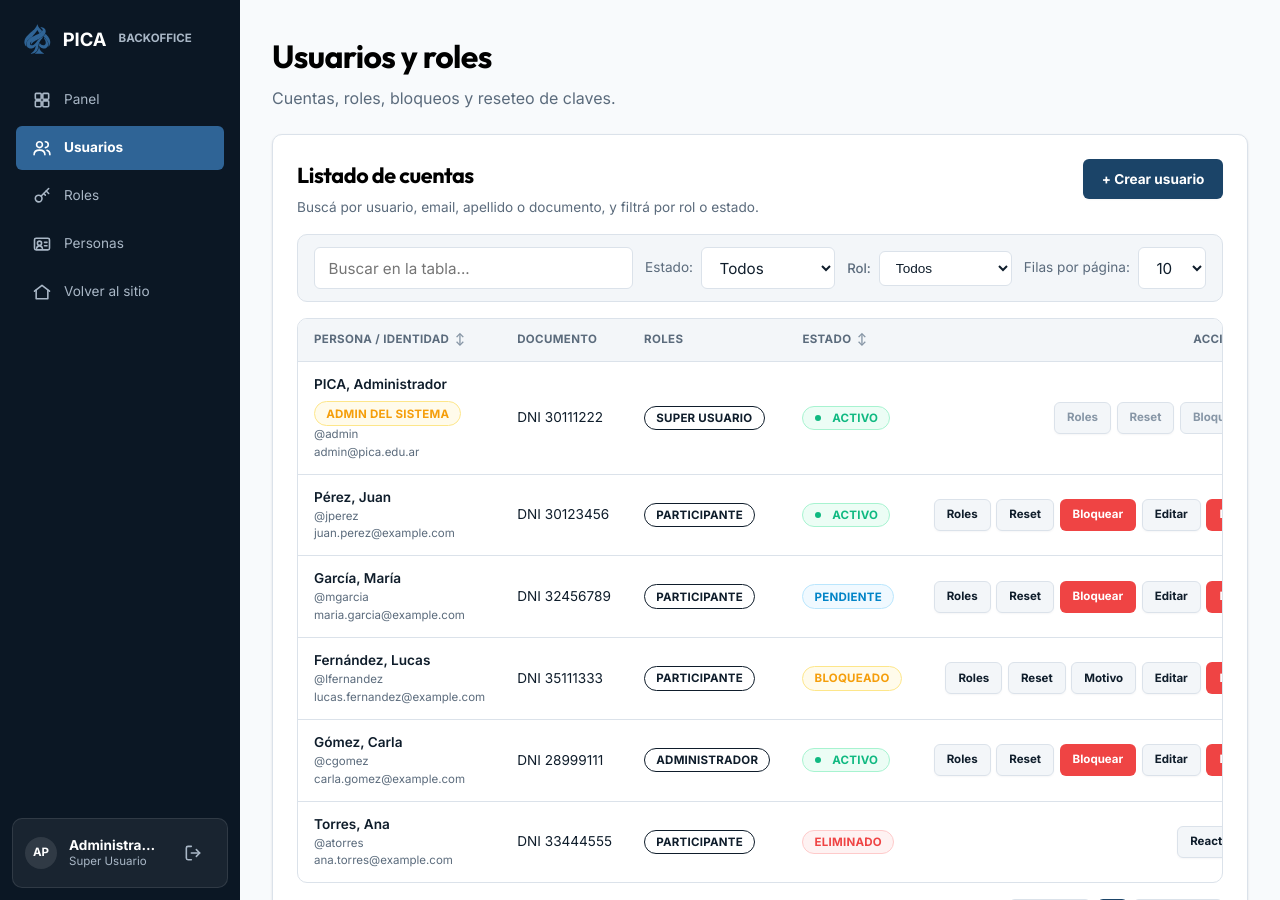
it: backoffice: roles de un usuario › a un usuario que no está activo no se le pueden cambiar los roles, con el texto del backoffice
The width and height of the screenshot is (1280, 900).
Click the button "Roles" in the row of "Fernández, Lucas" at (974, 678), box [945, 662, 1002, 694]
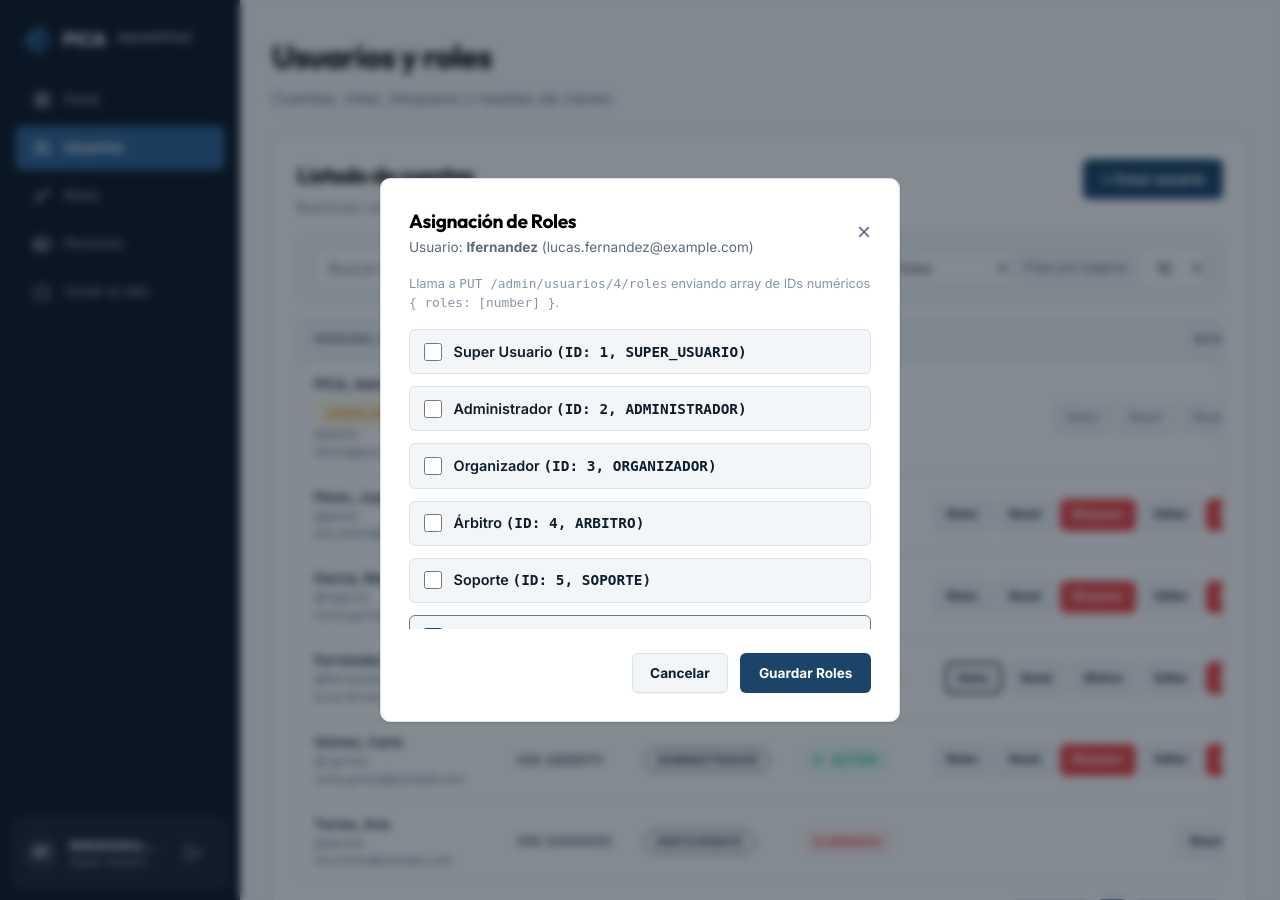
Click the button "Guardar Roles" at (806, 673), box [740, 653, 871, 693]
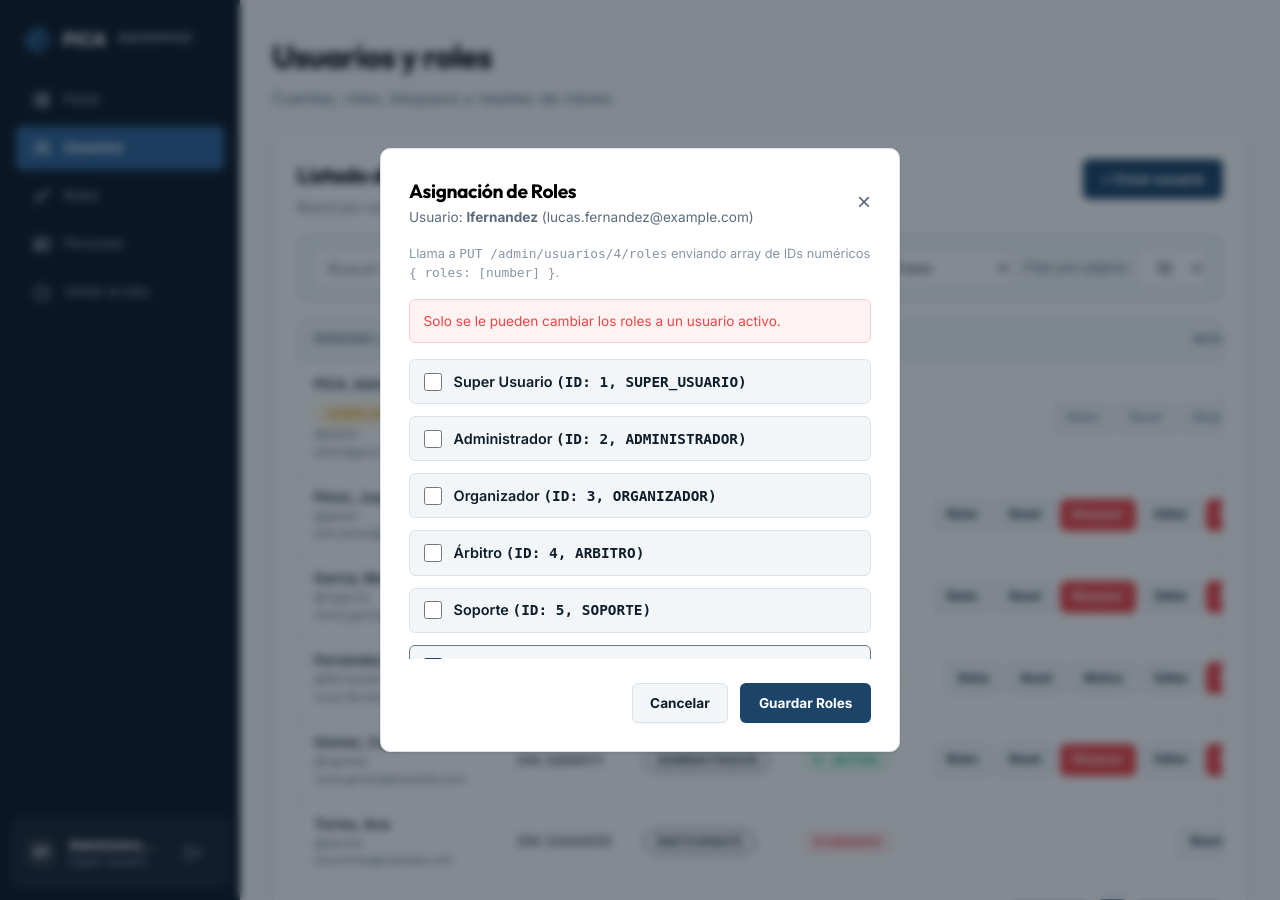
Now the text "Solo se le pueden cambiar los roles a un usuario activo." is shown, box [409, 299, 871, 343]
